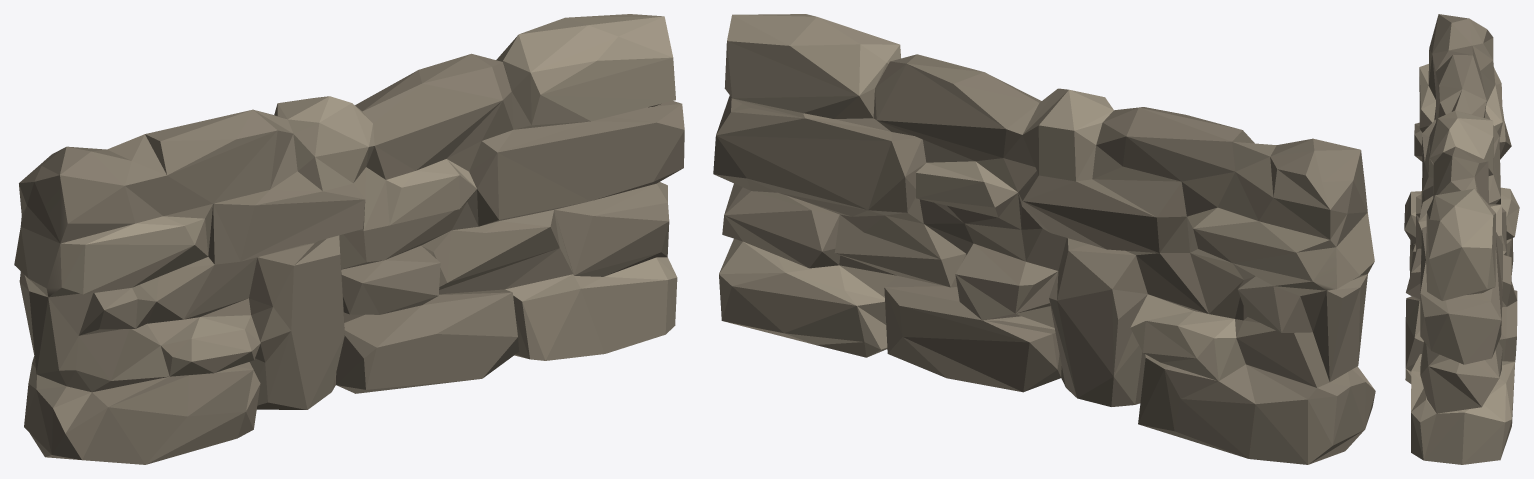
File: SM_Prop_StoneWall_01half.fbx
3 renders of one model, left to right at view 1: azimuth 30°, elevation 25°; view 2: azimuth 150°, elevation 25°; view 3: azimuth 270°, elevation 25°, orthographic. The views are drawn at different scales.
Parts seen in each view (by area): view 1: SM_Prop_StoneWall_01half; view 2: SM_Prop_StoneWall_01half; view 3: SM_Prop_StoneWall_01half.
Part boxes in pixels (left/top/right/bottom): SM_Prop_StoneWall_01half: left=14, top=14, right=684, bottom=464; SM_Prop_StoneWall_01half: left=713, top=14, right=1375, bottom=464; SM_Prop_StoneWall_01half: left=1404, top=14, right=1519, bottom=464.
Size of the model in its own units: 237 by 108 by 48.22.
